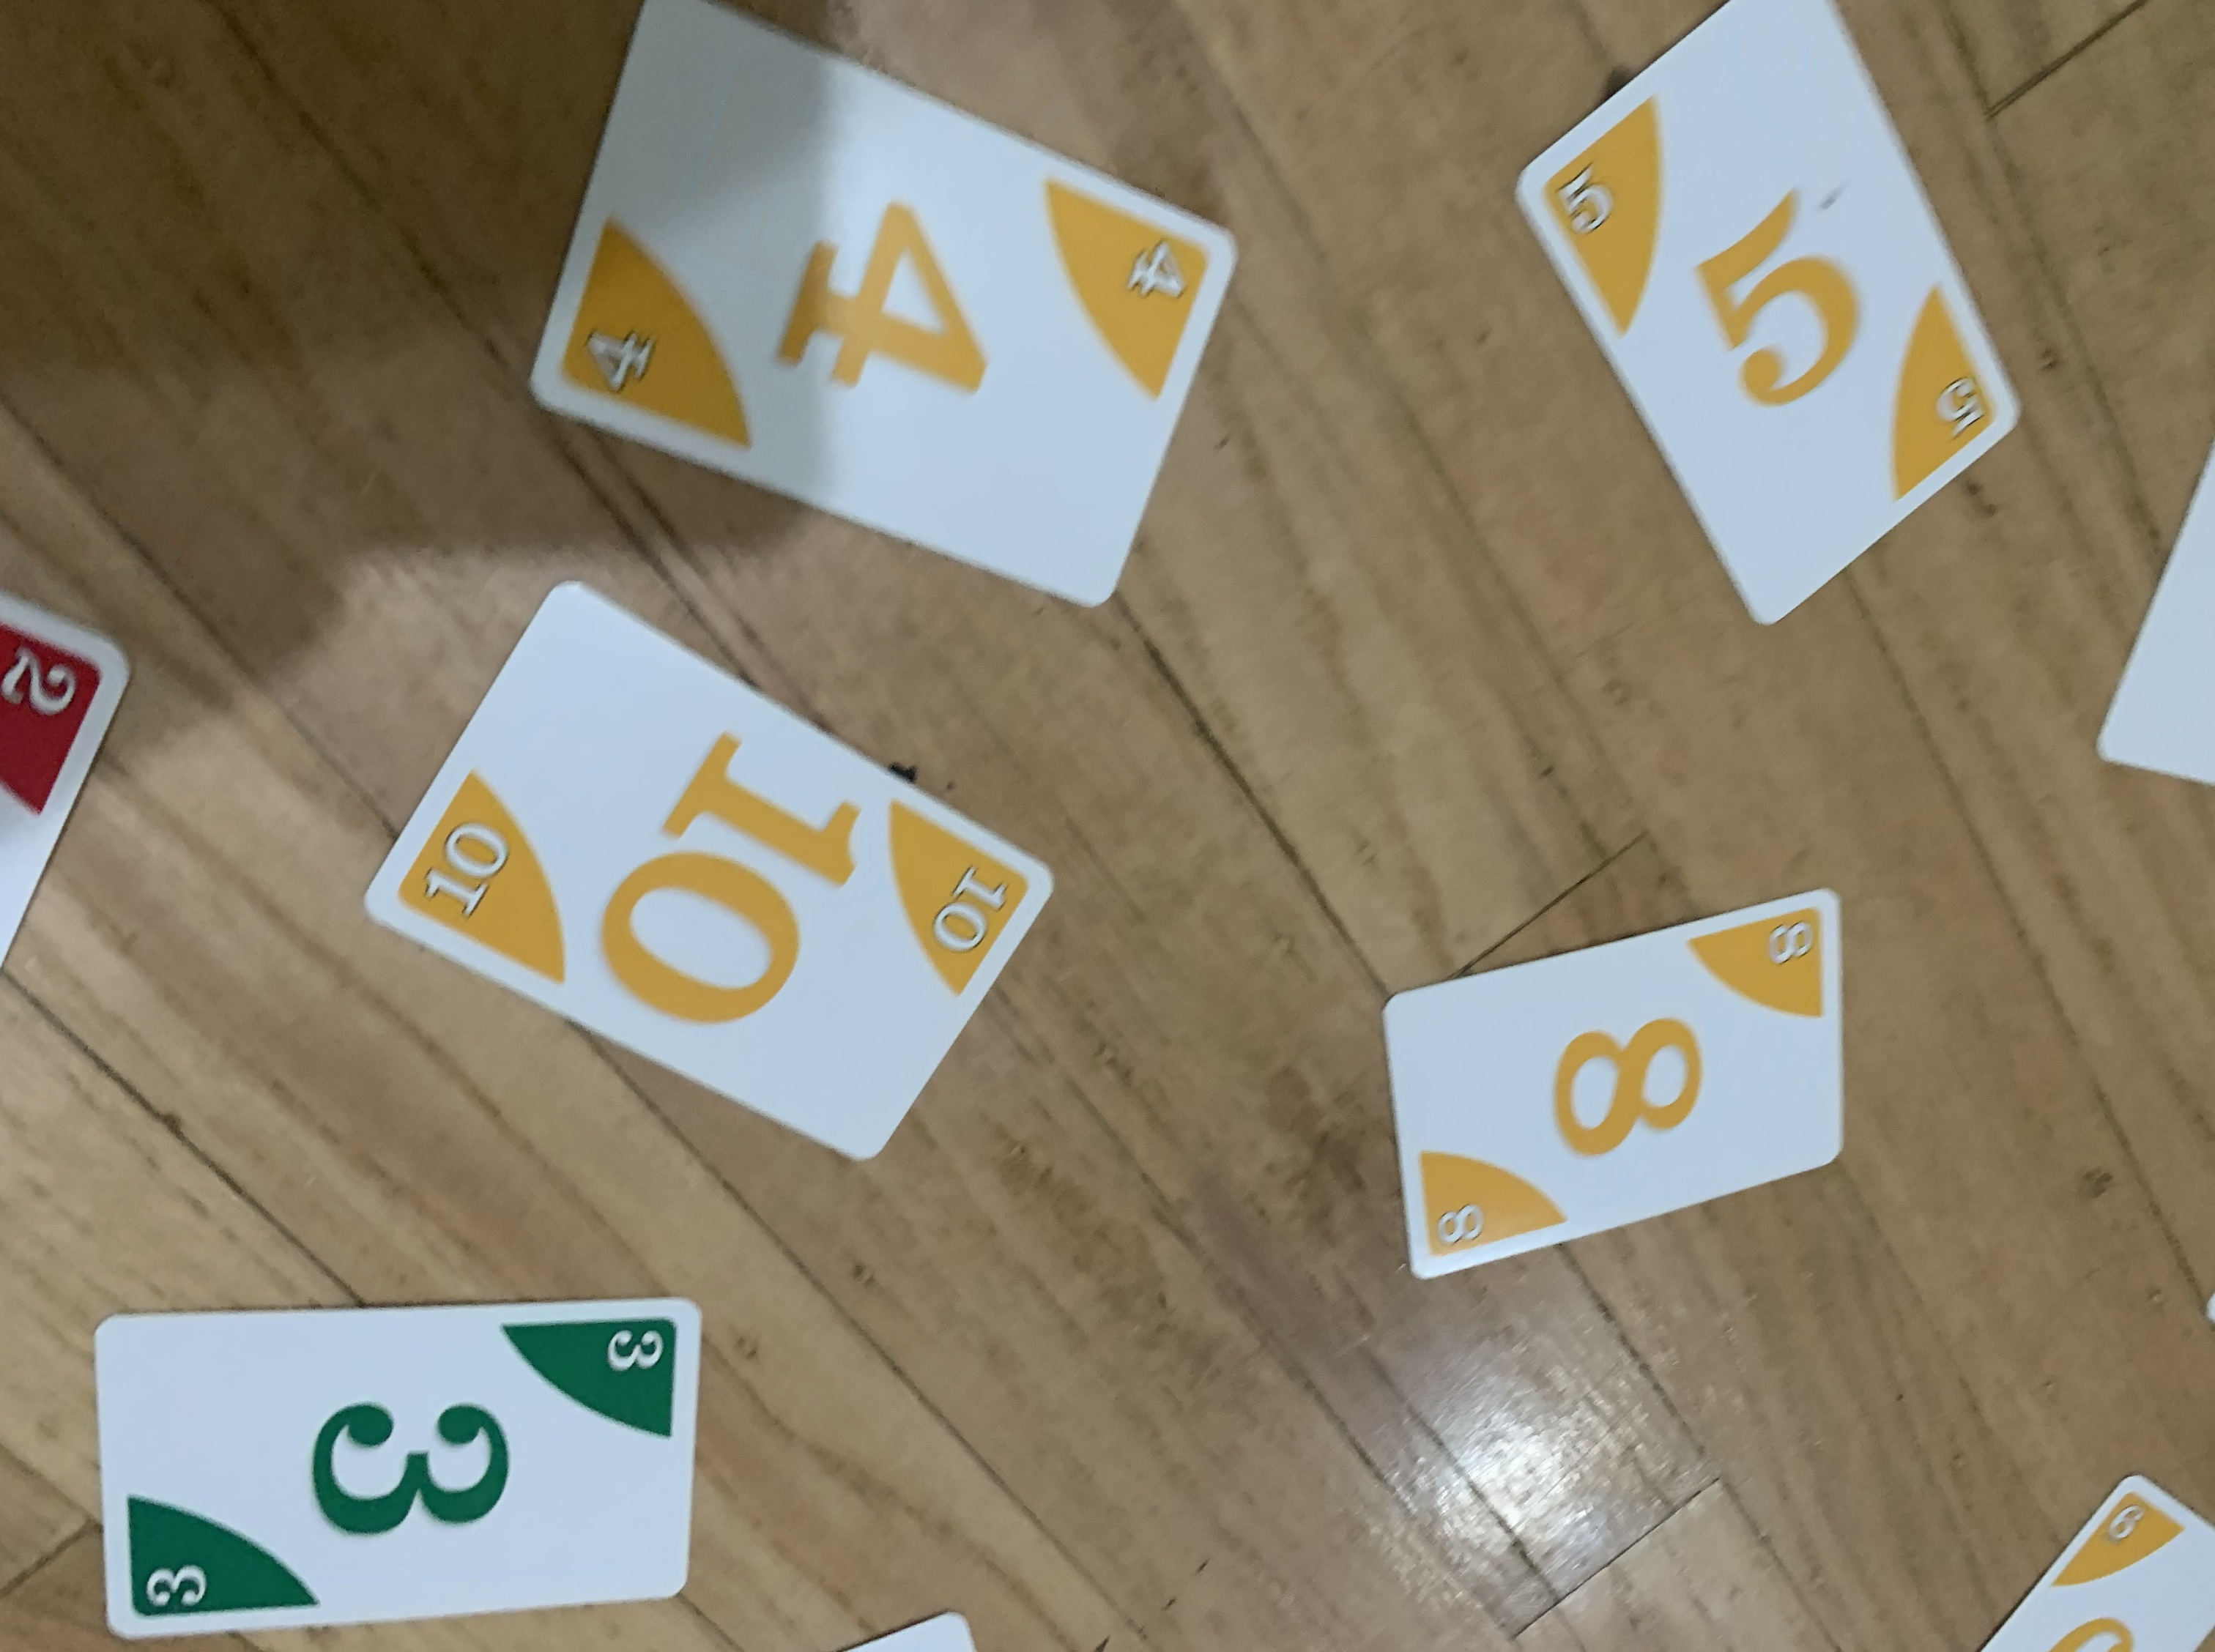eight: (1366, 880, 1852, 1296)
five: (1521, 0, 2029, 633)
four: (516, 0, 1245, 619)
ten: (354, 574, 1064, 1178)
three: (87, 1291, 717, 1647)
